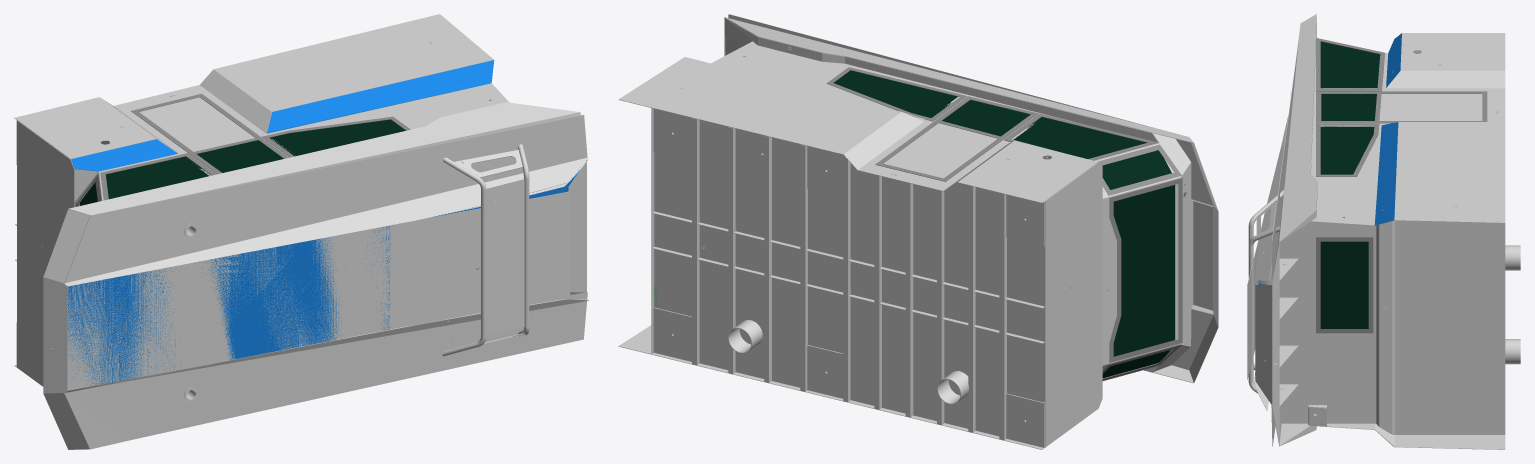
The model's file is Styrhus1.glb.
3 renders of one model, left to right at view 1: azimuth 30°, elevation 25°; view 2: azimuth 150°, elevation 25°; view 3: azimuth 270°, elevation 25°, orthographic. The views are drawn at different scales.
Parts seen in each view (by area): view 1: Mesh (×27); view 2: Mesh (×47); view 3: Mesh (×34).
Boxes of the visible parts, x1,y1,x2,y2 form: Mesh (×27): [14, 14, 589, 449]; Mesh (×47): [618, 14, 1218, 449]; Mesh (×34): [1247, 14, 1520, 449].
Bounding box in the file's own units: 5.45 × 2.51 × 2.71.
